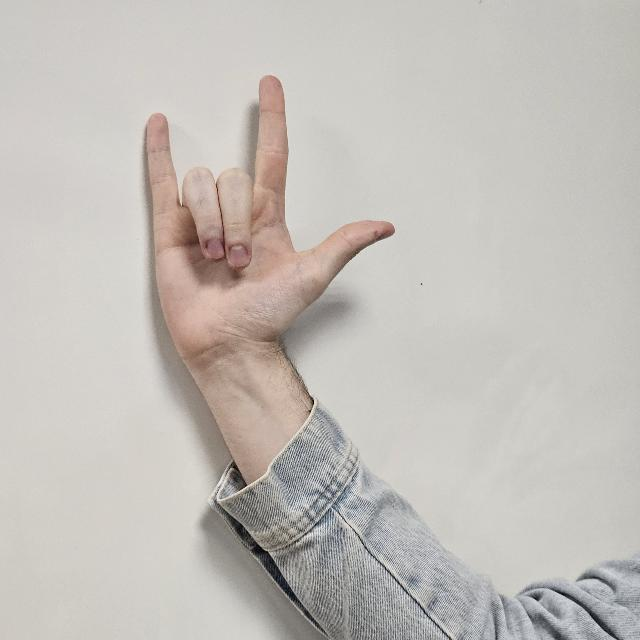Cima: (140, 72, 394, 384)
